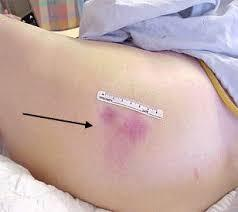Stage1: (91, 96, 173, 163)
